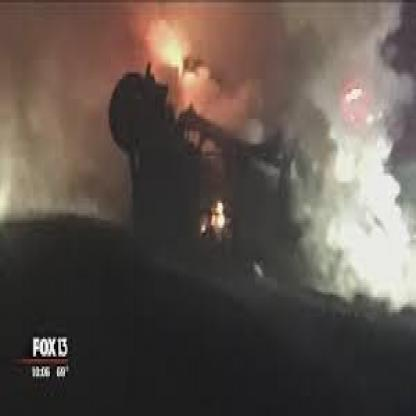fire: (122, 0, 254, 271)
